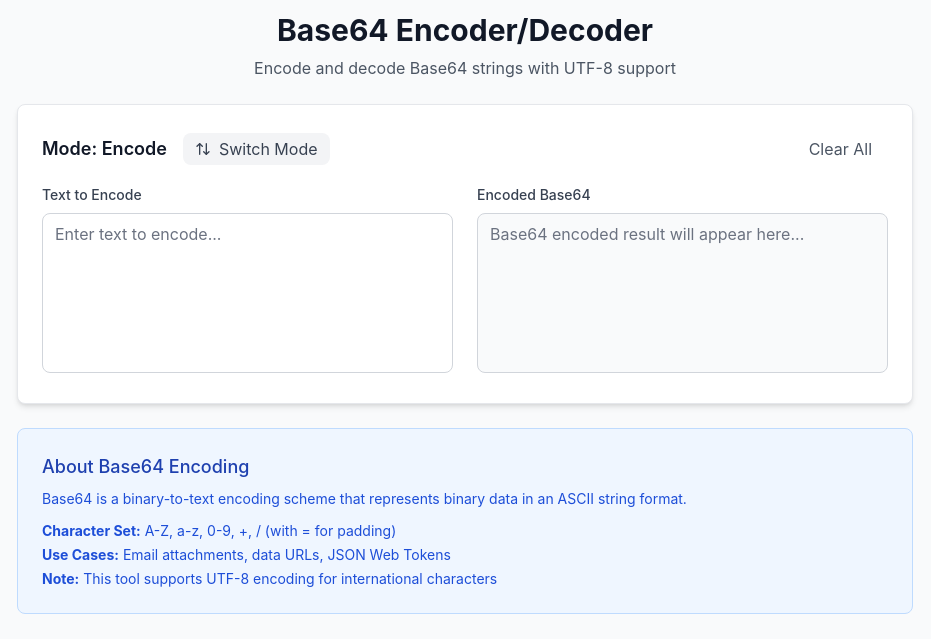
Base64Tool › switches to decode mode and decodes base64
# Switch to decode mode
Click the button "Switch Mode" at {"x": 256, "y": 149}, box [183,133,330,165]
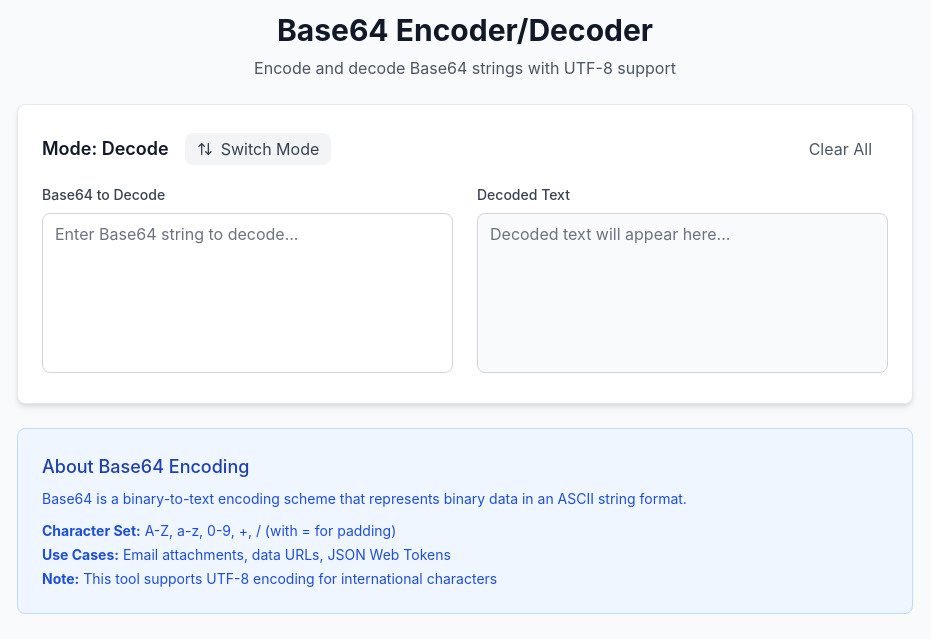
Expected: the heading "Mode: Decode" is shown, [42,135,169,163]
Type "SGVsbG8gV29ybGQh" into the text box with placeholder "Enter Base64 string to decode..." at {"x": 248, "y": 293}, box [42,213,453,373]
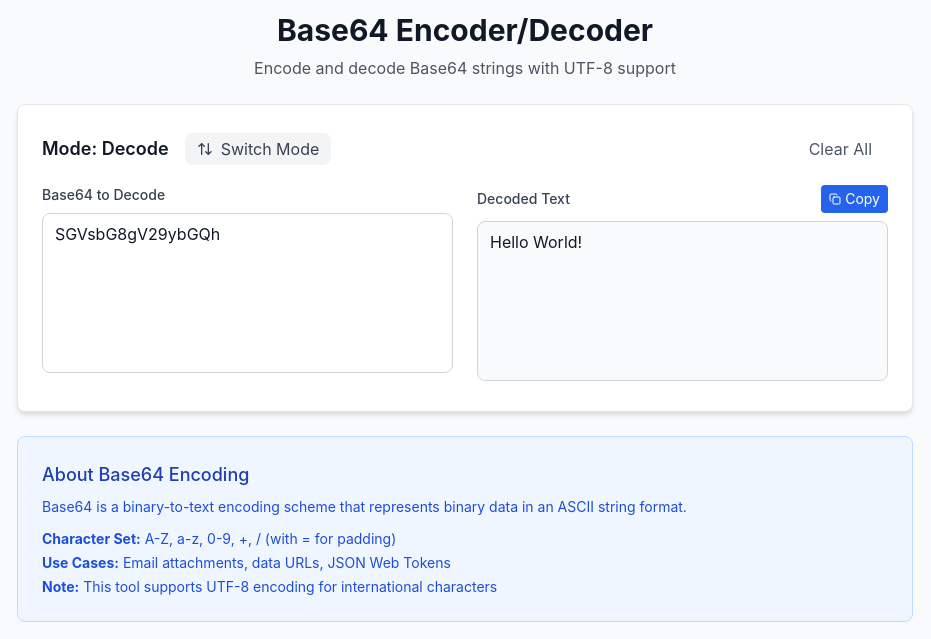
Expected: the text box with placeholder "Decoded text will appear here..." below "Decoded Text" holds "Hello World!", [477,221,888,381]
